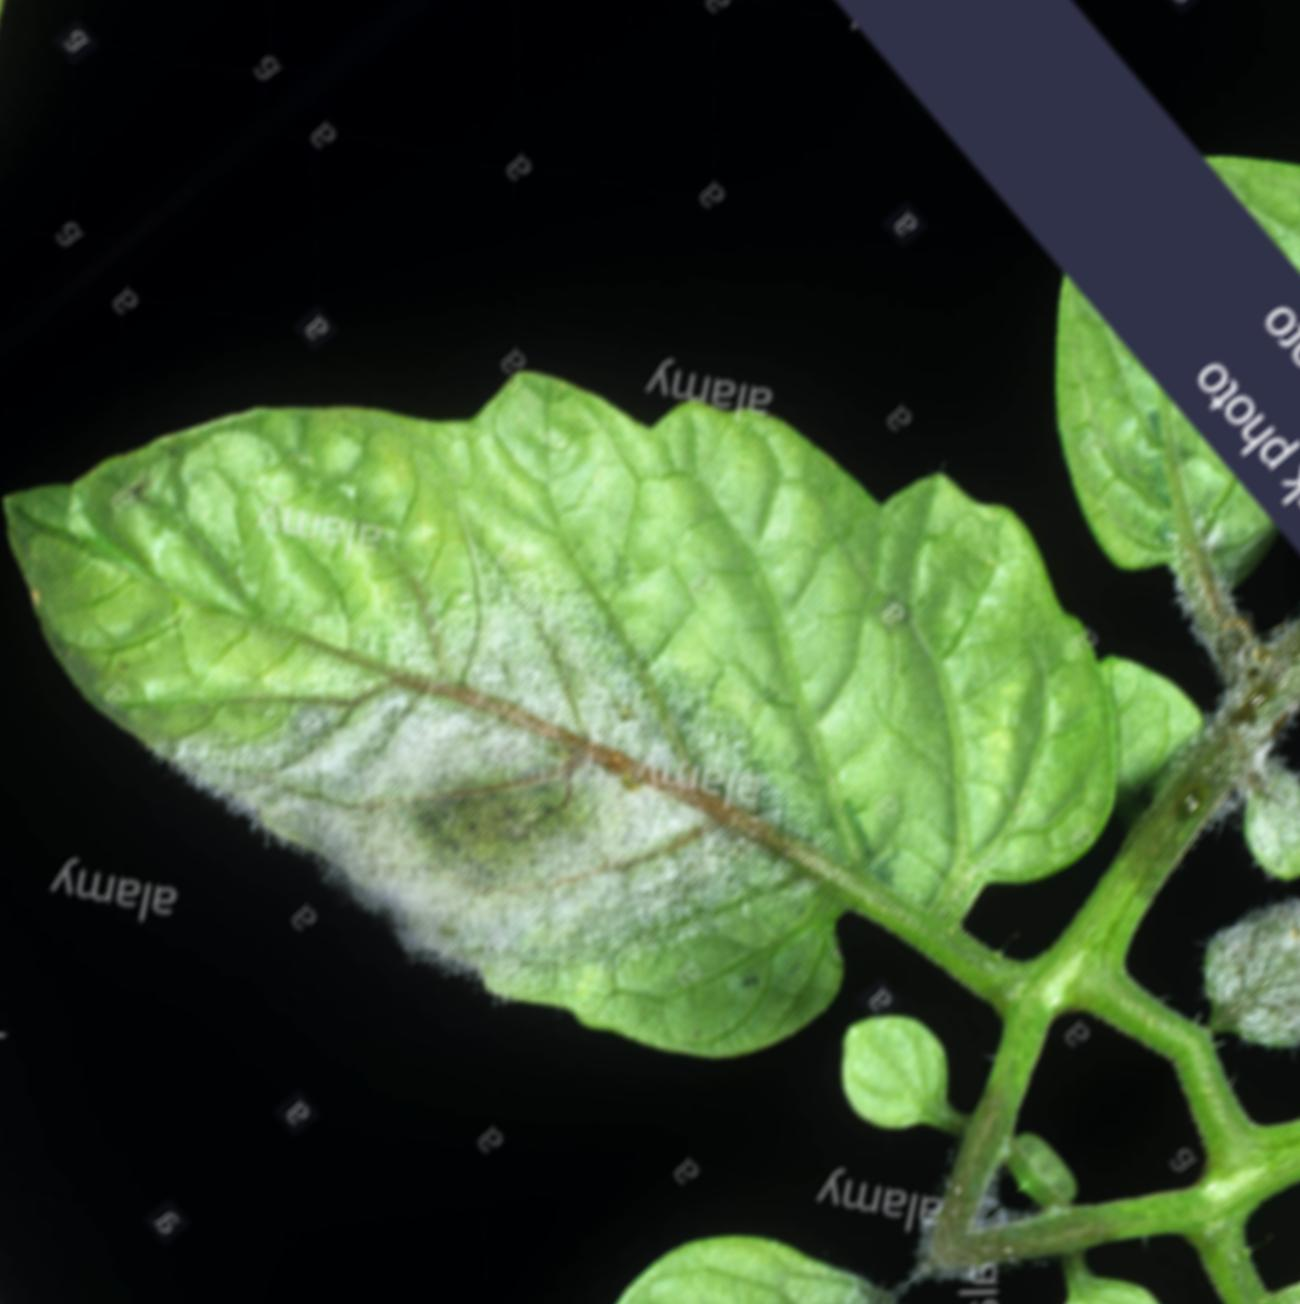Tomato leaf late blight: (0, 0, 1245, 1304)
